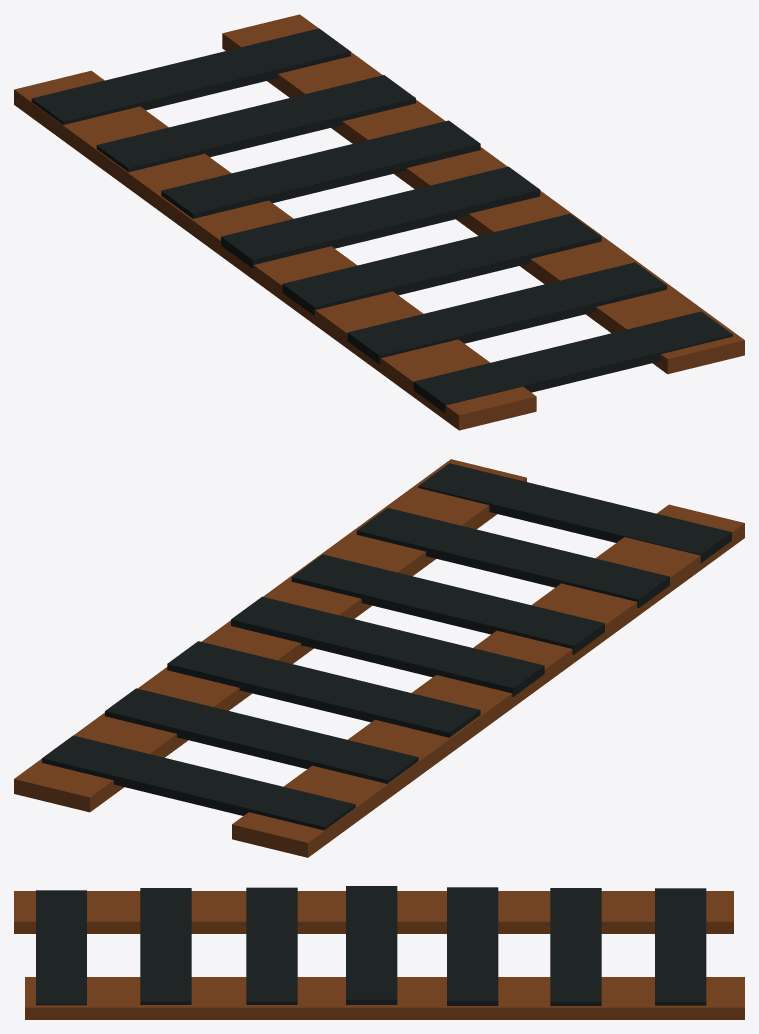
File: Via_Tren.obj
3 renders of one model, top to bottom at view 1: azimuth 30°, elevation 25°; view 2: azimuth 150°, elevation 25°; view 3: azimuth 270°, elevation 25°, orthographic. The views are drawn at different scales.
Parts seen in each view (by area): view 1: Cube.001, Cube.002, Cube.006, Cube.005, Cube.007, Cube.004, Cube.008, Cube.003, Cube.009; view 2: Cube.001, Cube.002, Cube.006, Cube.005, Cube.007, Cube.004, Cube.008, Cube.003, Cube.009; view 3: Cube.002, Cube.001, Cube.005, Cube.006, Cube.003, Cube.004, Cube.007, Cube.008, Cube.009.
Boxes of the visible parts, x1,y1,x2,y2 form: Cube.001: [14, 70, 536, 430]; Cube.002: [222, 14, 744, 374]; Cube.006: [221, 166, 540, 268]; Cube.005: [161, 120, 480, 218]; Cube.007: [282, 214, 601, 315]; Cube.004: [96, 75, 415, 172]; Cube.008: [347, 262, 666, 364]; Cube.003: [31, 28, 350, 124]; Cube.009: [413, 311, 732, 413]; Cube.001: [232, 504, 744, 857]; Cube.002: [14, 459, 526, 812]; Cube.006: [231, 596, 544, 696]; Cube.005: [167, 641, 480, 737]; Cube.007: [291, 554, 604, 654]; Cube.004: [105, 688, 418, 783]; Cube.008: [356, 508, 669, 607]; Cube.003: [42, 735, 355, 830]; Cube.009: [418, 463, 731, 563]; Cube.002: [25, 977, 744, 1019]; Cube.001: [14, 891, 733, 933]; Cube.005: [447, 887, 498, 1005]; Cube.006: [346, 886, 397, 1004]; Cube.003: [655, 888, 706, 1005]; Cube.004: [550, 888, 601, 1005]; Cube.007: [246, 887, 297, 1004]; Cube.008: [140, 888, 191, 1004]; Cube.009: [36, 890, 86, 1005].
Size of the model in its own units: 5.22 by 0.3716 by 13.88.
